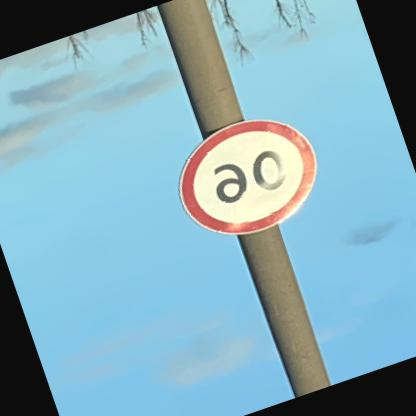speedlimit: (162, 103, 331, 252)
